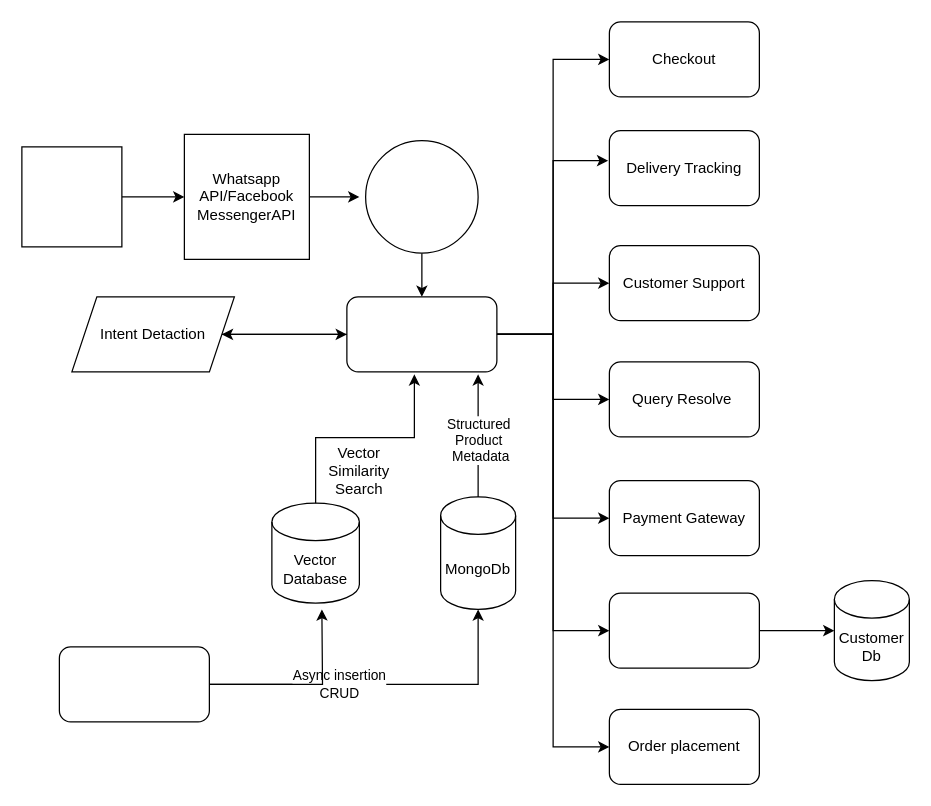
This 931x806 diagram has some shape labels left out. The centre of each missing label's shape, as x and y in pixels:
"AI Orchestration Engine" belongs at (421,334).
"Order Confirmation" belongs at (683,630).
"User Query" belongs at (71,196).
"Vendor's Dashboard" belongs at (133,684).
"Web-Server" belongs at (421,196).
